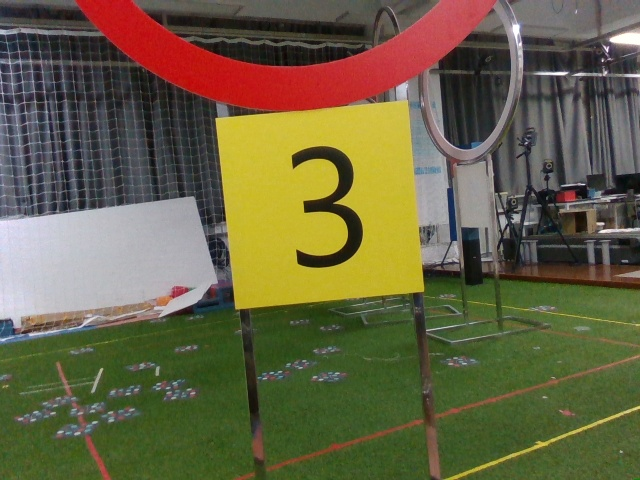target: (239, 116, 415, 289)
